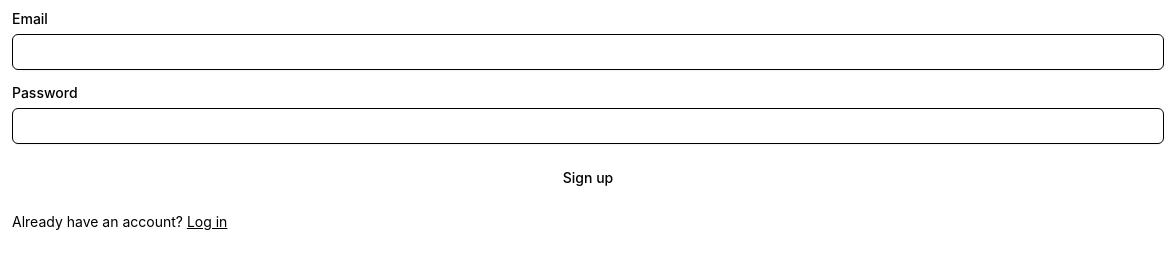
Scenario: SignupForm › rejects weak password client-side
The image size is (1176, 275).
Type "a@b.com" into the field labelled "Email" at (588, 52), box [12,34,1164,70]
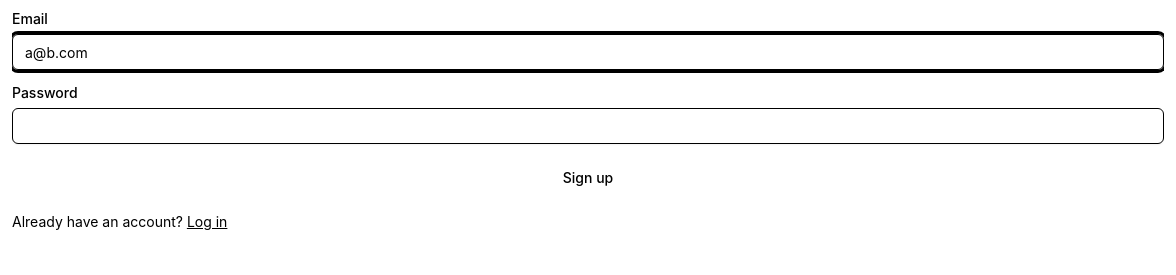
Type "short" into the password field labelled "Password" at (588, 126), box [12,108,1164,144]
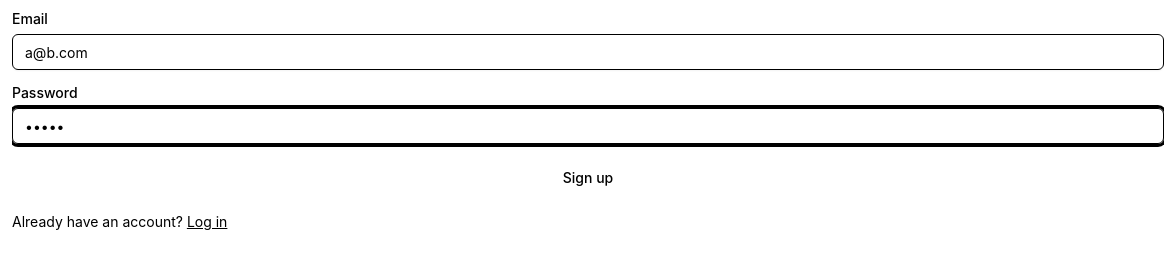
Click the button "Sign up" at (588, 178), box [12,160,1164,196]
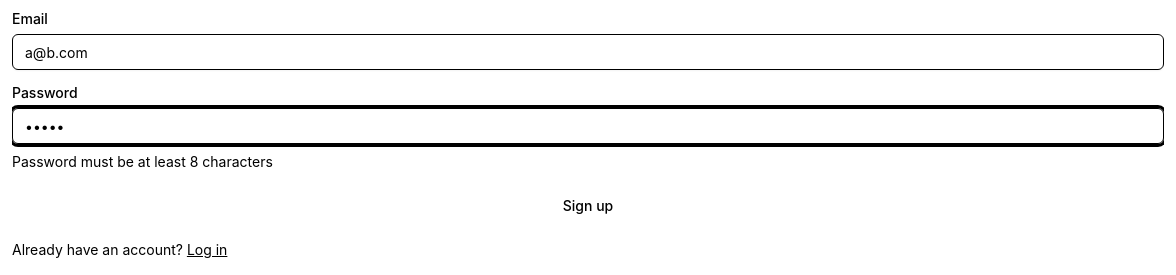
Result: the text "Password must be at least 8 characters" is shown at [12,153,273,170]
